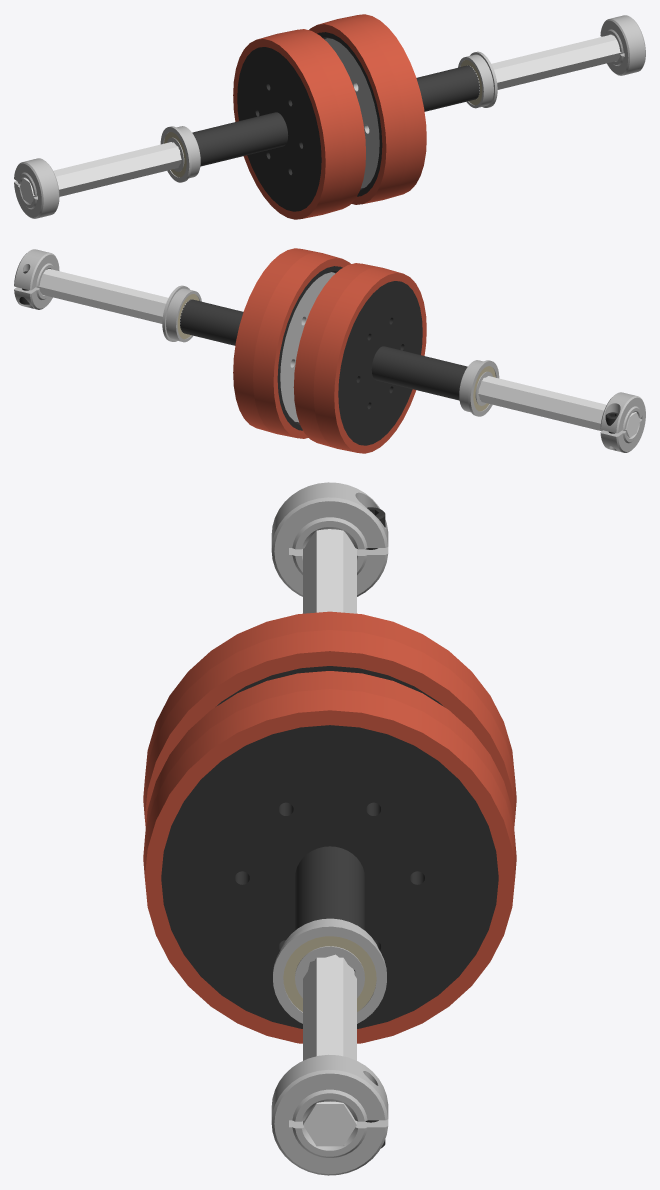
3 renders of one model, top to bottom at view 1: azimuth 30°, elevation 25°; view 2: azimuth 150°, elevation 25°; view 3: azimuth 270°, elevation 25°, orthographic. The views are drawn at different scales.
Visible parts, largest first — view 1: 4" Stealth Wheel (40A, 1/2" Hex Bore) (×2), 1/2" Hex (15" L, 1018 Steel), 1/2" Hex Bore Custom Spacer (0.75" OD,2.45" L) (×2), 1/2" Hex Clamping Shaft Collar (Heavy Duty) (×2), 1/2" Hex Bore Bearing (1.125" OD, 0.313" WD, Shielded, Flang (×2), Flywheel (For 4" Stealth Wheel); view 2: 4" Stealth Wheel (40A, 1/2" Hex Bore) (×2), 1/2" Hex (15" L, 1018 Steel), 1/2" Hex Bore Custom Spacer (0.75" OD,2.45" L) (×2), 1/2" Hex Clamping Shaft Collar (Heavy Duty) (×2), 1/2" Hex Bore Bearing (1.125" OD, 0.313" WD, Shielded, Flang (×2), Flywheel (For 4" Stealth Wheel); view 3: 4" Stealth Wheel (40A, 1/2" Hex Bore) (×2), 1/2" Hex Clamping Shaft Collar (Heavy Duty) (×2), 1/2" Hex (15" L, 1018 Steel), 1/2" Hex Bore Bearing (1.125" OD, 0.313" WD, Shielded, Flang, 1/2" Hex Bore Custom Spacer (0.75" OD,2.45" L).
Boxes of the visible parts, x1,y1,x2,y2 form: 4" Stealth Wheel (40A, 1/2" Hex Bore) (×2): [233, 14, 426, 219]; 1/2" Hex (15" L, 1018 Steel): [20, 35, 623, 203]; 1/2" Hex Bore Custom Spacer (0.75" OD,2.45" L) (×2): [192, 65, 479, 166]; 1/2" Hex Clamping Shaft Collar (Heavy Duty) (×2): [14, 15, 645, 218]; 1/2" Hex Bore Bearing (1.125" OD, 0.313" WD, Shielded, Flang (×2): [160, 51, 497, 182]; Flywheel (For 4" Stealth Wheel): [324, 38, 379, 188]; 4" Stealth Wheel (40A, 1/2" Hex Bore) (×2): [233, 248, 426, 453]; 1/2" Hex (15" L, 1018 Steel): [36, 269, 639, 437]; 1/2" Hex Bore Custom Spacer (0.75" OD,2.45" L) (×2): [180, 299, 467, 400]; 1/2" Hex Clamping Shaft Collar (Heavy Duty) (×2): [14, 249, 645, 452]; 1/2" Hex Bore Bearing (1.125" OD, 0.313" WD, Shielded, Flang (×2): [162, 285, 499, 416]; Flywheel (For 4" Stealth Wheel): [280, 272, 335, 422]; 4" Stealth Wheel (40A, 1/2" Hex Bore) (×2): [143, 611, 516, 1043]; 1/2" Hex Clamping Shaft Collar (Heavy Duty) (×2): [271, 482, 388, 1175]; 1/2" Hex (15" L, 1018 Steel): [303, 529, 356, 1146]; 1/2" Hex Bore Bearing (1.125" OD, 0.313" WD, Shielded, Flang: [273, 918, 386, 1023]; 1/2" Hex Bore Custom Spacer (0.75" OD,2.45" L): [295, 846, 364, 970].
Bounding box in the file's own units: 0.381 × 0.1016 × 0.1016.
